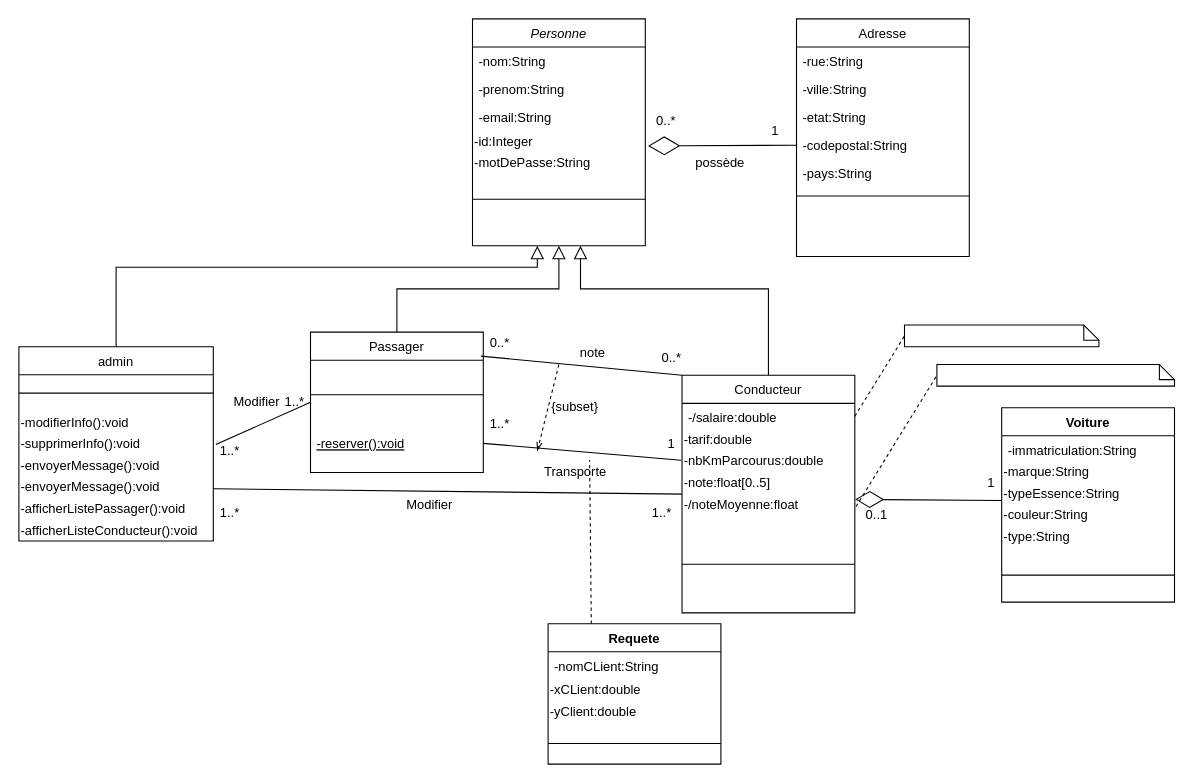
This 1193x783 diagram has some shape labels left out. Here are the shapes that lost their labels. From the top down, the centre of each, then its label:
point (1001, 335): {salaire=tarif*nbKmParcourus}
point (1055, 374): {noteMoyenne=( Σ notes)/nbNotes}
